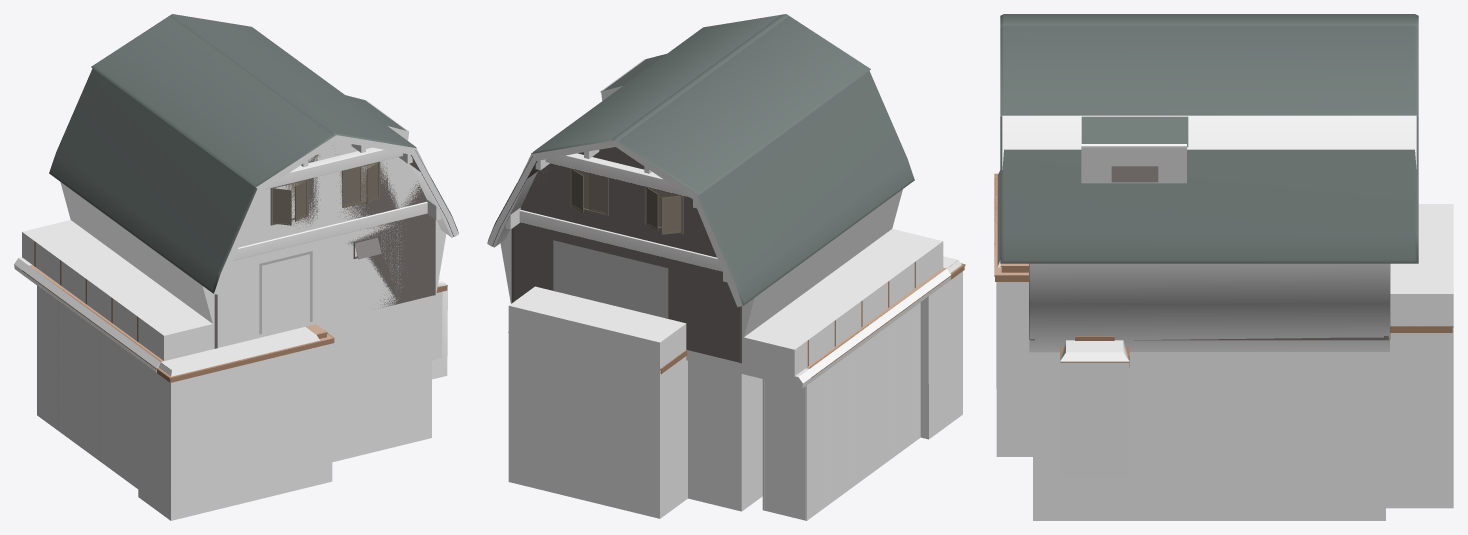
File: eca_bld_fv_house_a.DAE
3 views of the same model, side by side, from view 1: azimuth 30°, elevation 25°; view 2: azimuth 150°, elevation 25°; view 3: azimuth 270°, elevation 25° (orthographic). The views are drawn at different scales.
Parts seen in each view (by area): view 1: eca_bld_fv_house_a250, Colmesh-1; view 2: Colmesh-1, eca_bld_fv_house_a250, eca_bld_fv_house_a100; view 3: Colmesh-1, eca_bld_fv_house_a250, eca_bld_fv_house_a100.
Boxes of the visible parts, x1,y1,x2,y2 form: eca_bld_fv_house_a250: (22,14,458,476); Colmesh-1: (14,100,453,520); Colmesh-1: (493,59,962,520); eca_bld_fv_house_a250: (487,14,965,520); eca_bld_fv_house_a100: (556,243,945,367); Colmesh-1: (996,115,1453,520); eca_bld_fv_house_a250: (994,14,1453,459); eca_bld_fv_house_a100: (994,173,1453,326).
Bounding box in the file's own units: 11.15 × 11.52 × 12.11.
